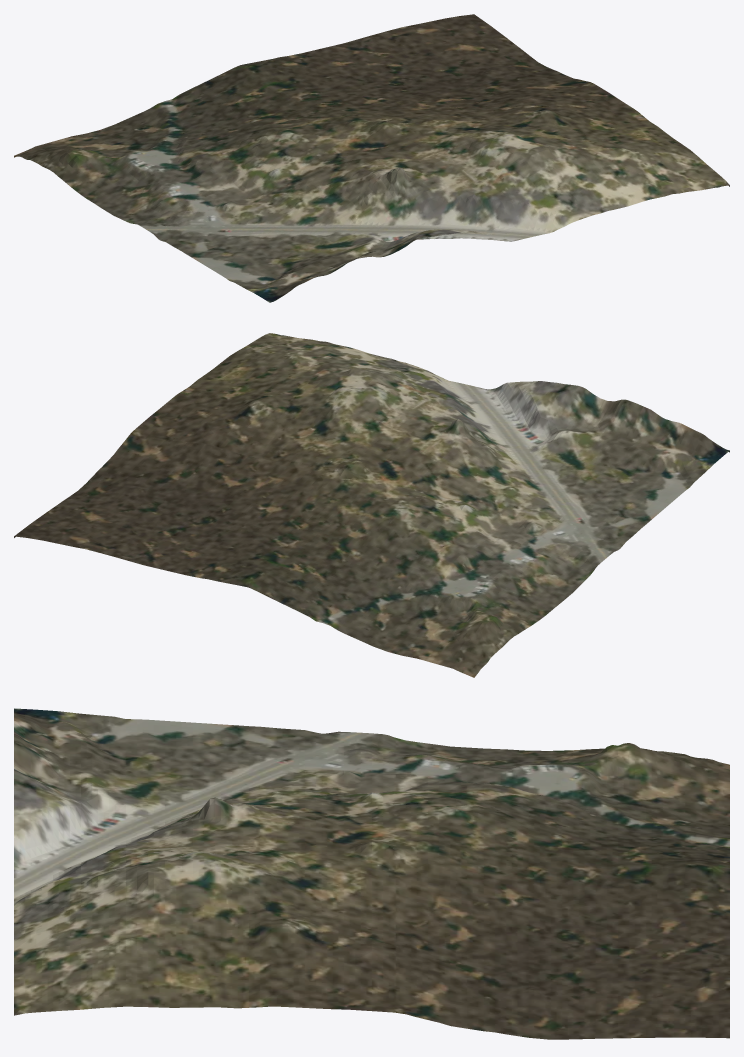
3 renders of one model, top to bottom at view 1: azimuth 30°, elevation 25°; view 2: azimuth 150°, elevation 25°; view 3: azimuth 270°, elevation 25°, orthographic. The views are drawn at different scales.
Size of the model in its own units: 250 by 41.97 by 241.
Materials: 1 (1 with a texture image).
